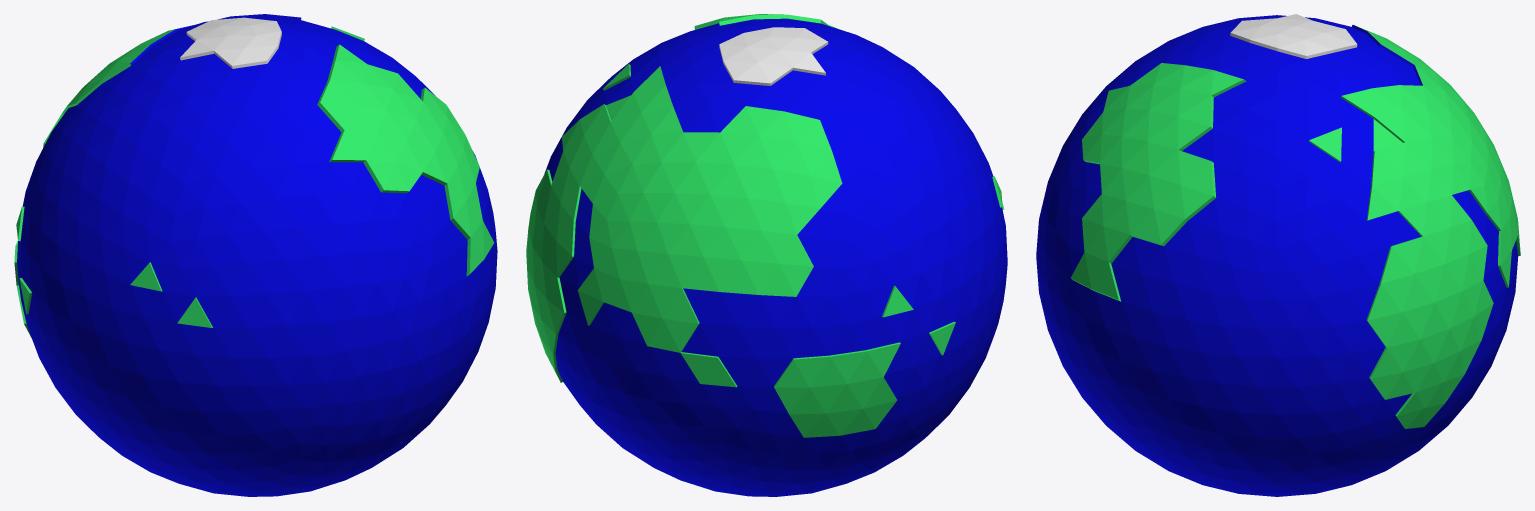
File: globe.fbx
The picture shows the model from 3 angles, left to right: view 1: azimuth 30°, elevation 25°; view 2: azimuth 150°, elevation 25°; view 3: azimuth 270°, elevation 25°; orthographic projection.
Parts seen in each view (by area): view 1: Icosphere; view 2: Icosphere; view 3: Icosphere.
Boxes of the visible parts, x1,y1,x2,y2 form: Icosphere: (14, 14, 497, 496); Icosphere: (526, 14, 1007, 496); Icosphere: (1036, 14, 1520, 496).
Bounding box in the file's own units: 201 × 200 × 201.
